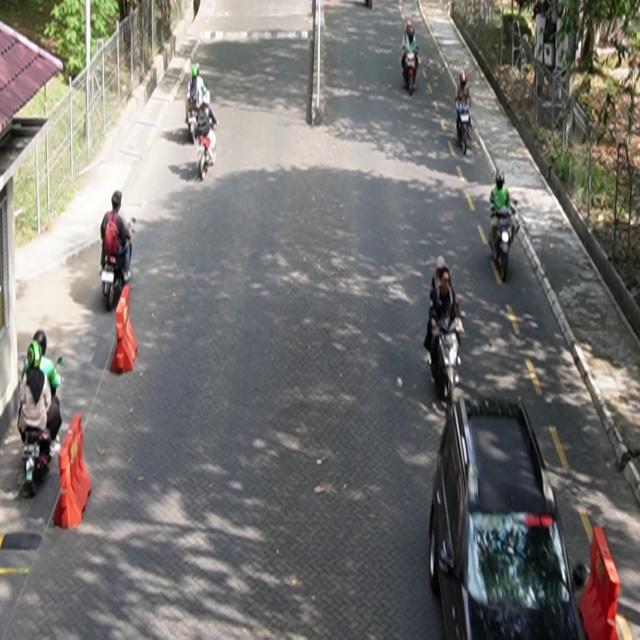car: (429, 396, 588, 640)
